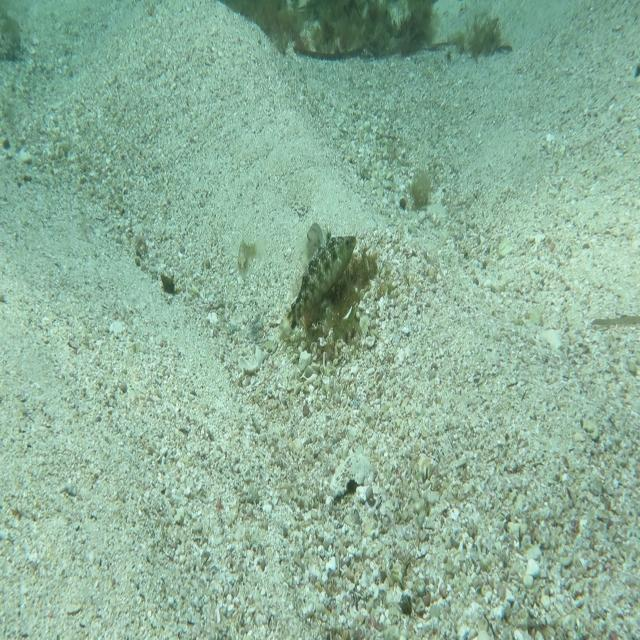ROLL: (274, 221, 360, 344)
female: (291, 219, 328, 280)
nest: (284, 242, 381, 362)
other_fish: (234, 230, 272, 285)
